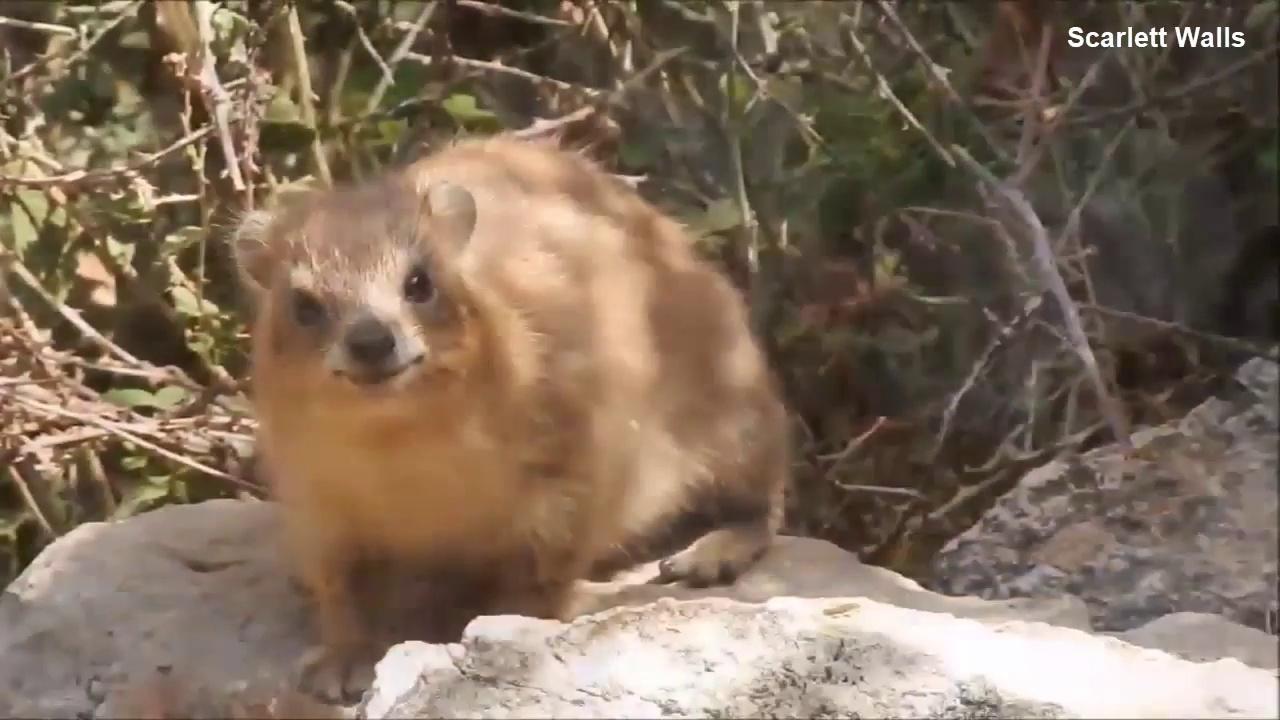Rock Hyrex: (223, 133, 787, 704)
